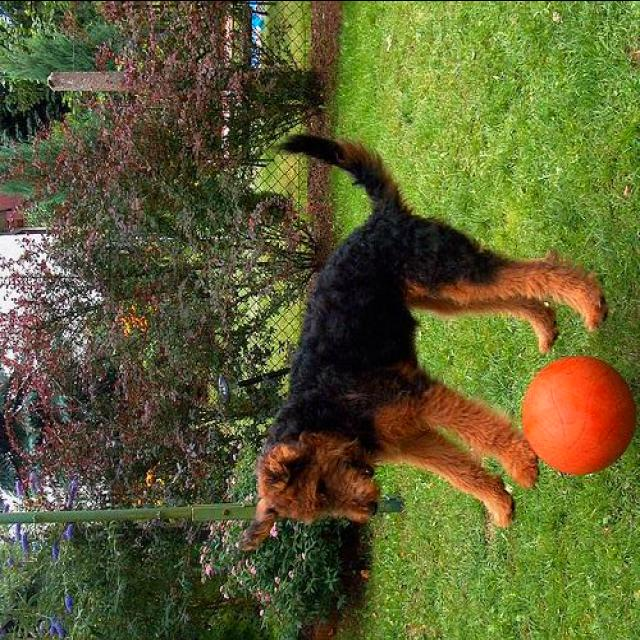airedale: (240, 136, 606, 544)
